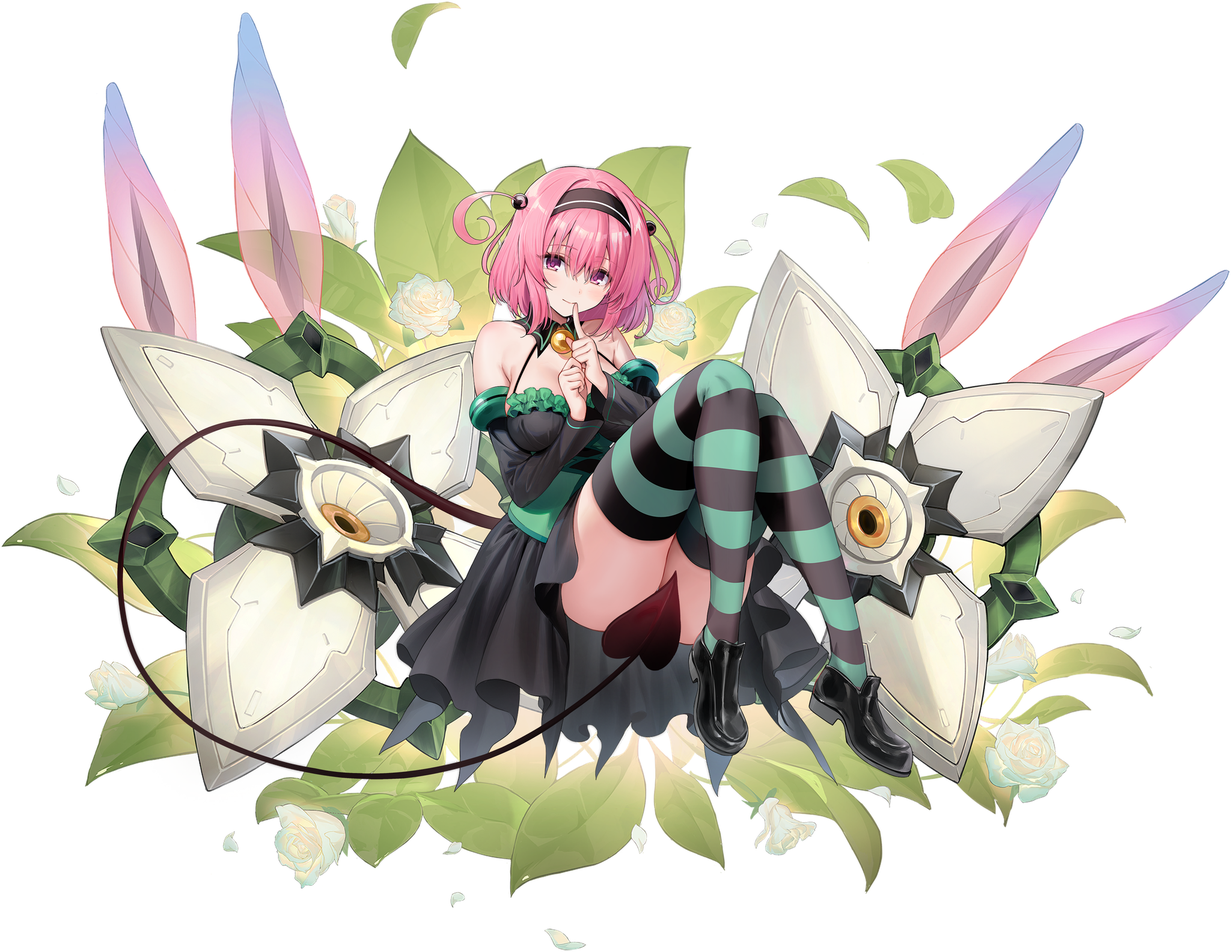person: (72, 128, 751, 943)
